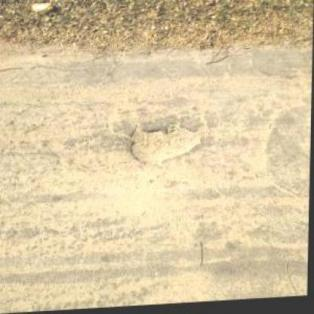Hueco: (127, 121, 205, 167)
